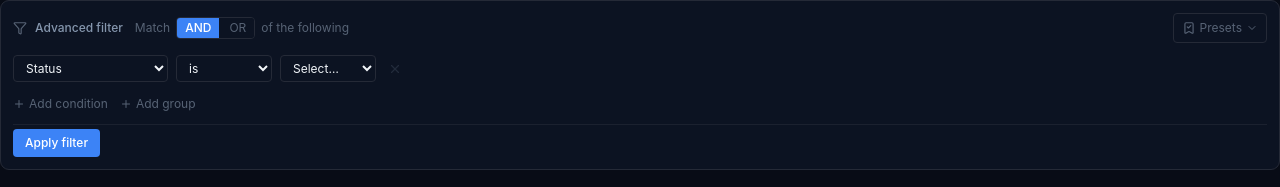
Test: FilterBuilder › shows Clear filter button when draft has content even without active value
Note: Fill in a value to give the draft content
Select "up" in the dropdown named "Filter value". click: (328, 68)
box: [280, 55, 376, 82]
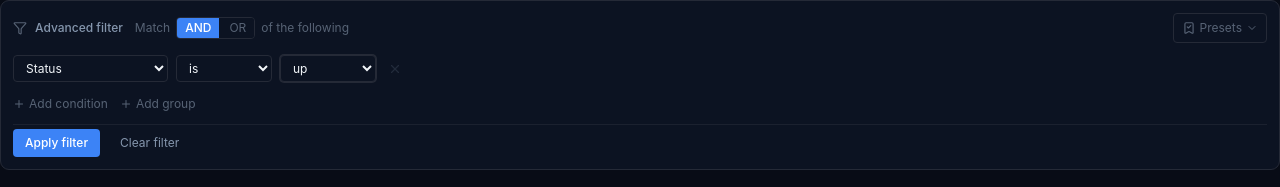
Check: the button "Clear filter" is shown, box [108, 129, 191, 157]
